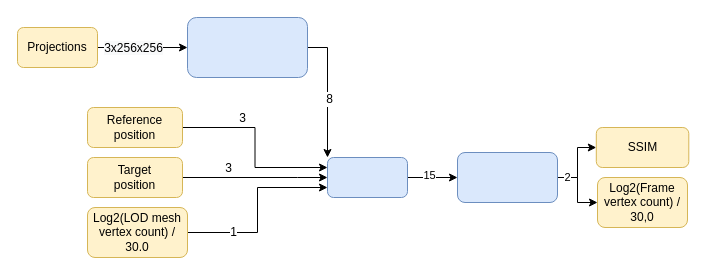
Image size: 707x275. Some labels were removed from this diagram. The shapes that lost their labels are listed below. From the top down, each one's centre as x and y in pixels, then its label:
the point at 247,47: CNN
the point at 367,177: Concat
the point at 507,177: Feed Forward Network
